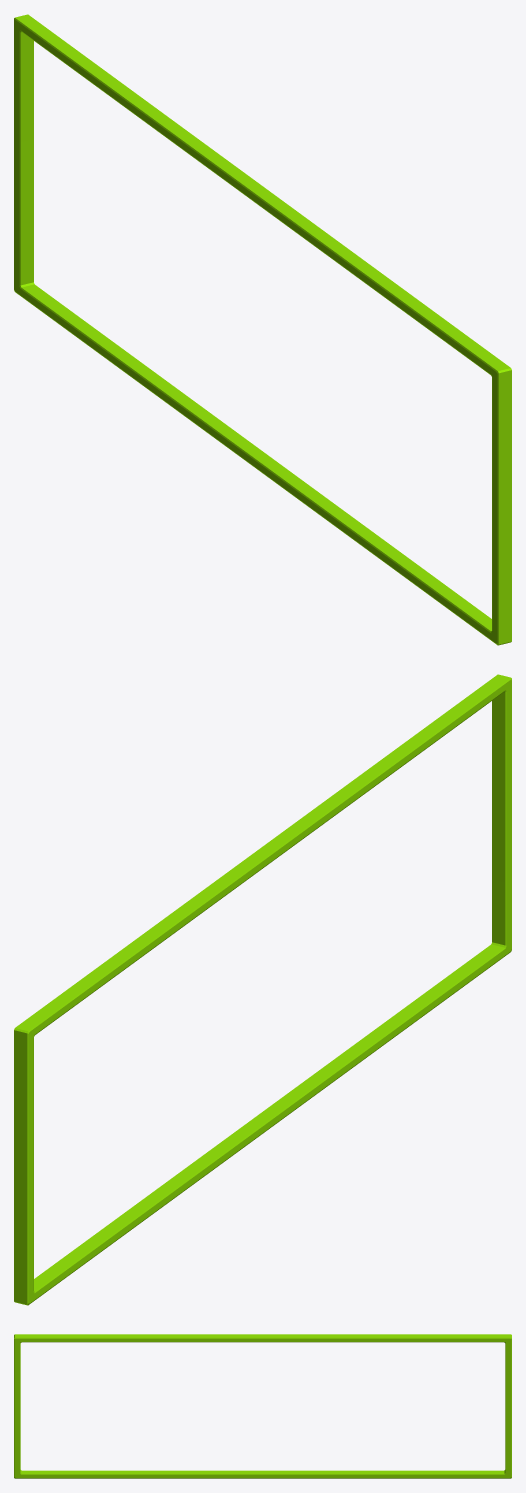
File: Wide_BackBox_Screen.fbx
The picture shows the model from 3 angles, top to bottom: view 1: azimuth 30°, elevation 25°; view 2: azimuth 150°, elevation 25°; view 3: azimuth 270°, elevation 25°; orthographic projection. The views are drawn at different scales.
Parts seen in each view (by area): view 1: Wide_BackBox_Screen; view 2: Wide_BackBox_Screen; view 3: Wide_BackBox_Screen.
Part boxes in pixels (x1,y1,x2,y2): Wide_BackBox_Screen: (14,14,511,645); Wide_BackBox_Screen: (14,674,511,1305); Wide_BackBox_Screen: (14,1334,511,1478).
Bounding box in the file's own units: 0.703 × 12.81 × 41.04.
